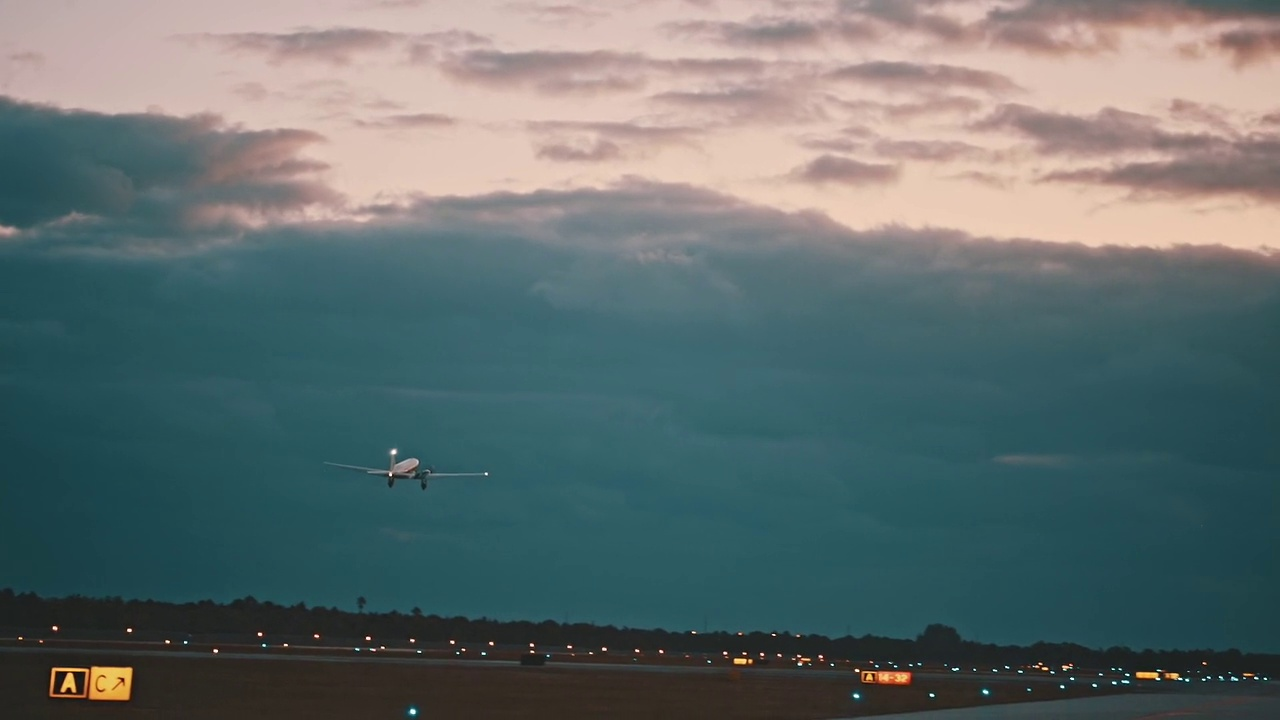plane: (323, 448, 490, 491)
